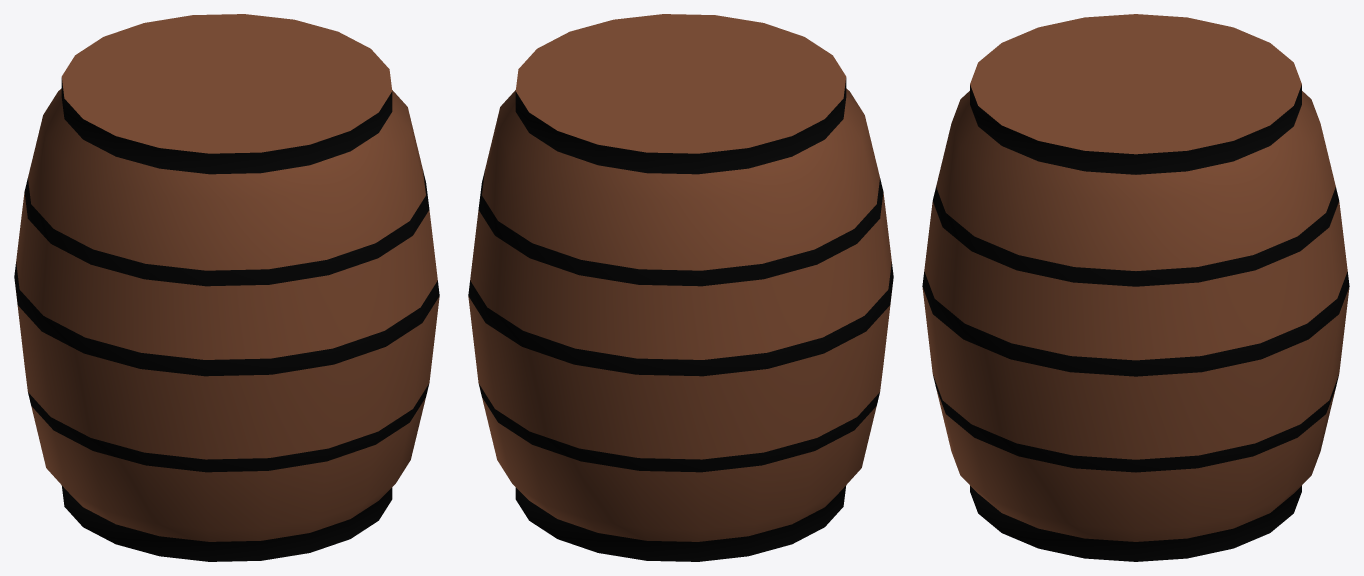
The model's file is barrel.gltf.
3 views of the same model, side by side, from view 1: azimuth 30°, elevation 25°; view 2: azimuth 150°, elevation 25°; view 3: azimuth 270°, elevation 25° (orthographic).
Parts seen in each view (by area): view 1: pCylinder1; view 2: pCylinder1; view 3: pCylinder1.
Part boxes in pixels (<box>): pCylinder1: <box>14,14,439,561</box>; pCylinder1: <box>468,14,893,561</box>; pCylinder1: <box>922,14,1349,561</box>.
Bounding box in the file's own units: 0.1157 × 0.1219 × 0.1157.
